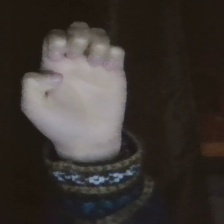E: (12, 16, 137, 147)
